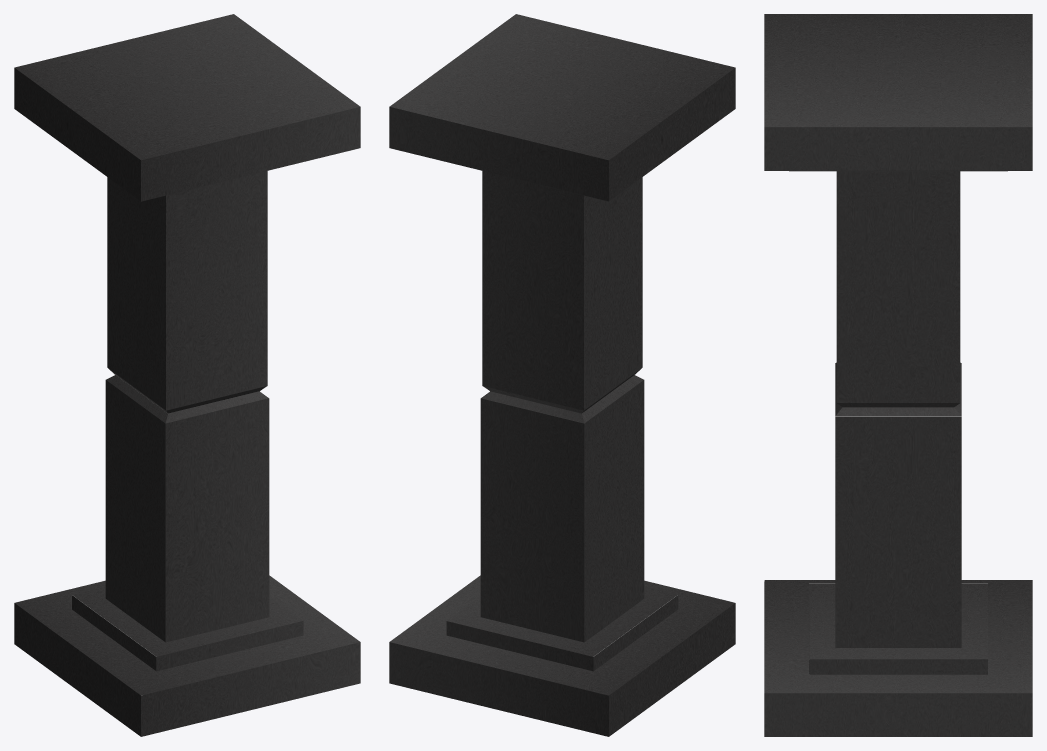
The model's file is Pillar.fbx.
3 renders of one model, left to right at view 1: azimuth 30°, elevation 25°; view 2: azimuth 150°, elevation 25°; view 3: azimuth 270°, elevation 25°, orthographic. The views are drawn at different scales.
Visible parts, largest first — view 1: Cube.001; view 2: Cube.001; view 3: Cube.001.
Boxes of the visible parts, box(x1,y1,x2,y2) form: Cube.001: box(14, 14, 360, 736); Cube.001: box(389, 14, 735, 736); Cube.001: box(764, 14, 1032, 736).
Bounding box in the file's own units: 2 × 5.02 × 2.
1 material, 1 textured.
